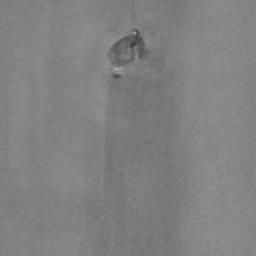Slag inclusion: (108, 28, 152, 68), (110, 72, 124, 81)
